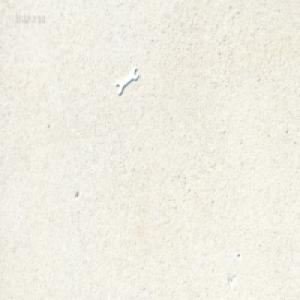Wrench: (116, 67, 138, 95)
